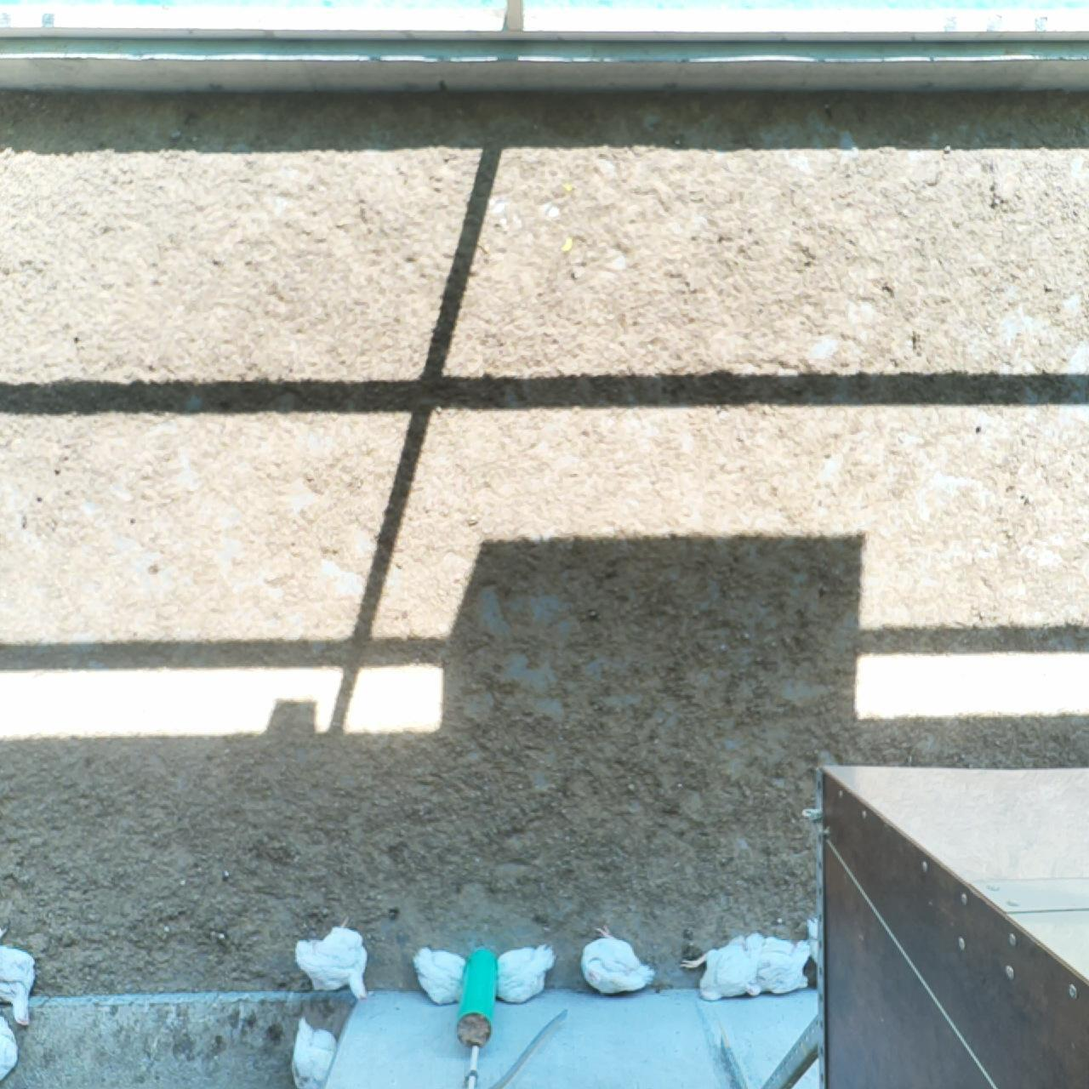chicken: (289, 913, 381, 1001), (578, 922, 657, 994), (680, 935, 761, 998), (744, 928, 814, 995), (410, 941, 473, 1006), (287, 1013, 342, 1087), (495, 943, 562, 1002), (1, 928, 37, 1030), (1, 1011, 20, 1086)
